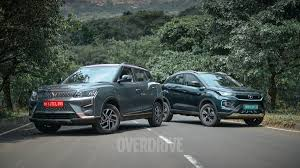XUV 400: (27, 62, 164, 134), (162, 68, 266, 126)
